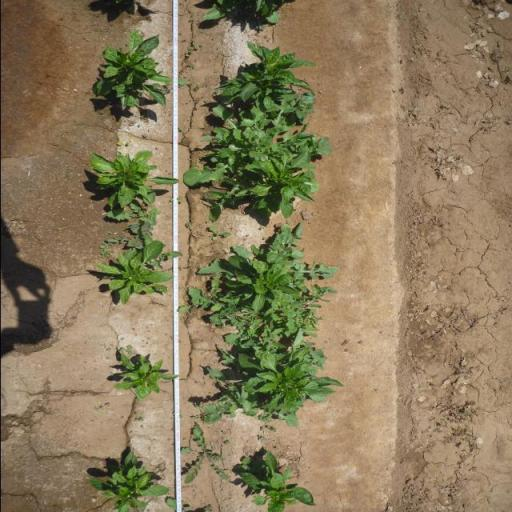plant: (213, 37, 312, 108), (91, 27, 172, 112), (236, 349, 342, 411), (82, 149, 180, 211), (233, 149, 315, 221), (89, 240, 174, 309), (86, 446, 168, 512), (241, 452, 318, 512), (112, 354, 178, 400), (236, 261, 299, 309)
weed: (180, 89, 335, 226), (181, 247, 251, 328), (266, 220, 339, 287), (180, 423, 230, 486), (190, 372, 246, 424), (250, 307, 326, 344), (100, 190, 162, 235), (104, 222, 163, 252), (295, 91, 317, 125), (147, 250, 184, 270), (166, 495, 192, 512), (208, 224, 232, 242), (112, 138, 134, 152), (236, 458, 255, 472), (151, 81, 171, 94), (252, 412, 272, 422), (257, 424, 277, 434), (98, 241, 112, 251), (118, 343, 132, 353), (98, 252, 113, 260), (202, 505, 213, 512), (256, 23, 266, 30), (185, 47, 193, 54), (258, 435, 266, 442), (134, 416, 144, 421), (186, 62, 194, 68), (176, 197, 183, 203), (194, 84, 200, 90), (142, 132, 148, 138)
